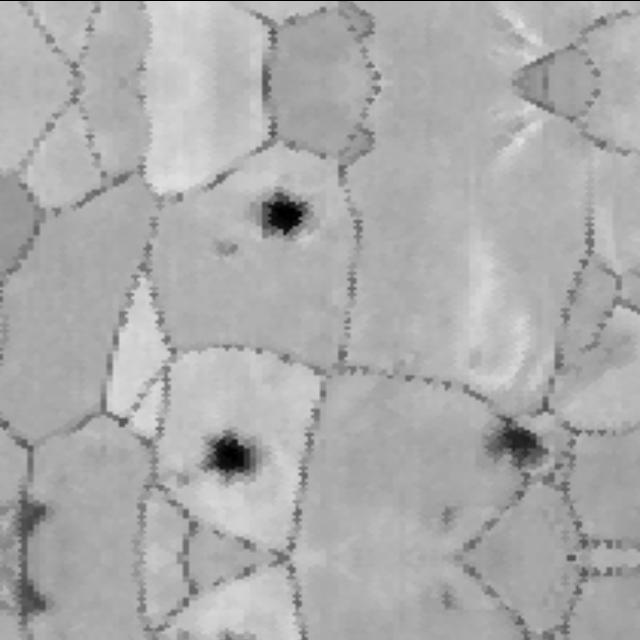good_void: (248, 175, 333, 260), (479, 405, 558, 484), (196, 417, 264, 489), (12, 476, 54, 539), (12, 577, 54, 640), (206, 228, 253, 275), (427, 492, 469, 534), (427, 582, 469, 624), (163, 463, 198, 499), (170, 619, 197, 640)
